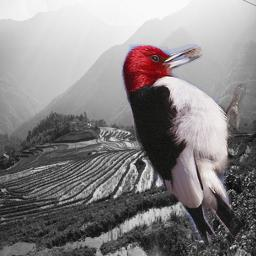Woodpecker: (121, 44, 246, 246)
